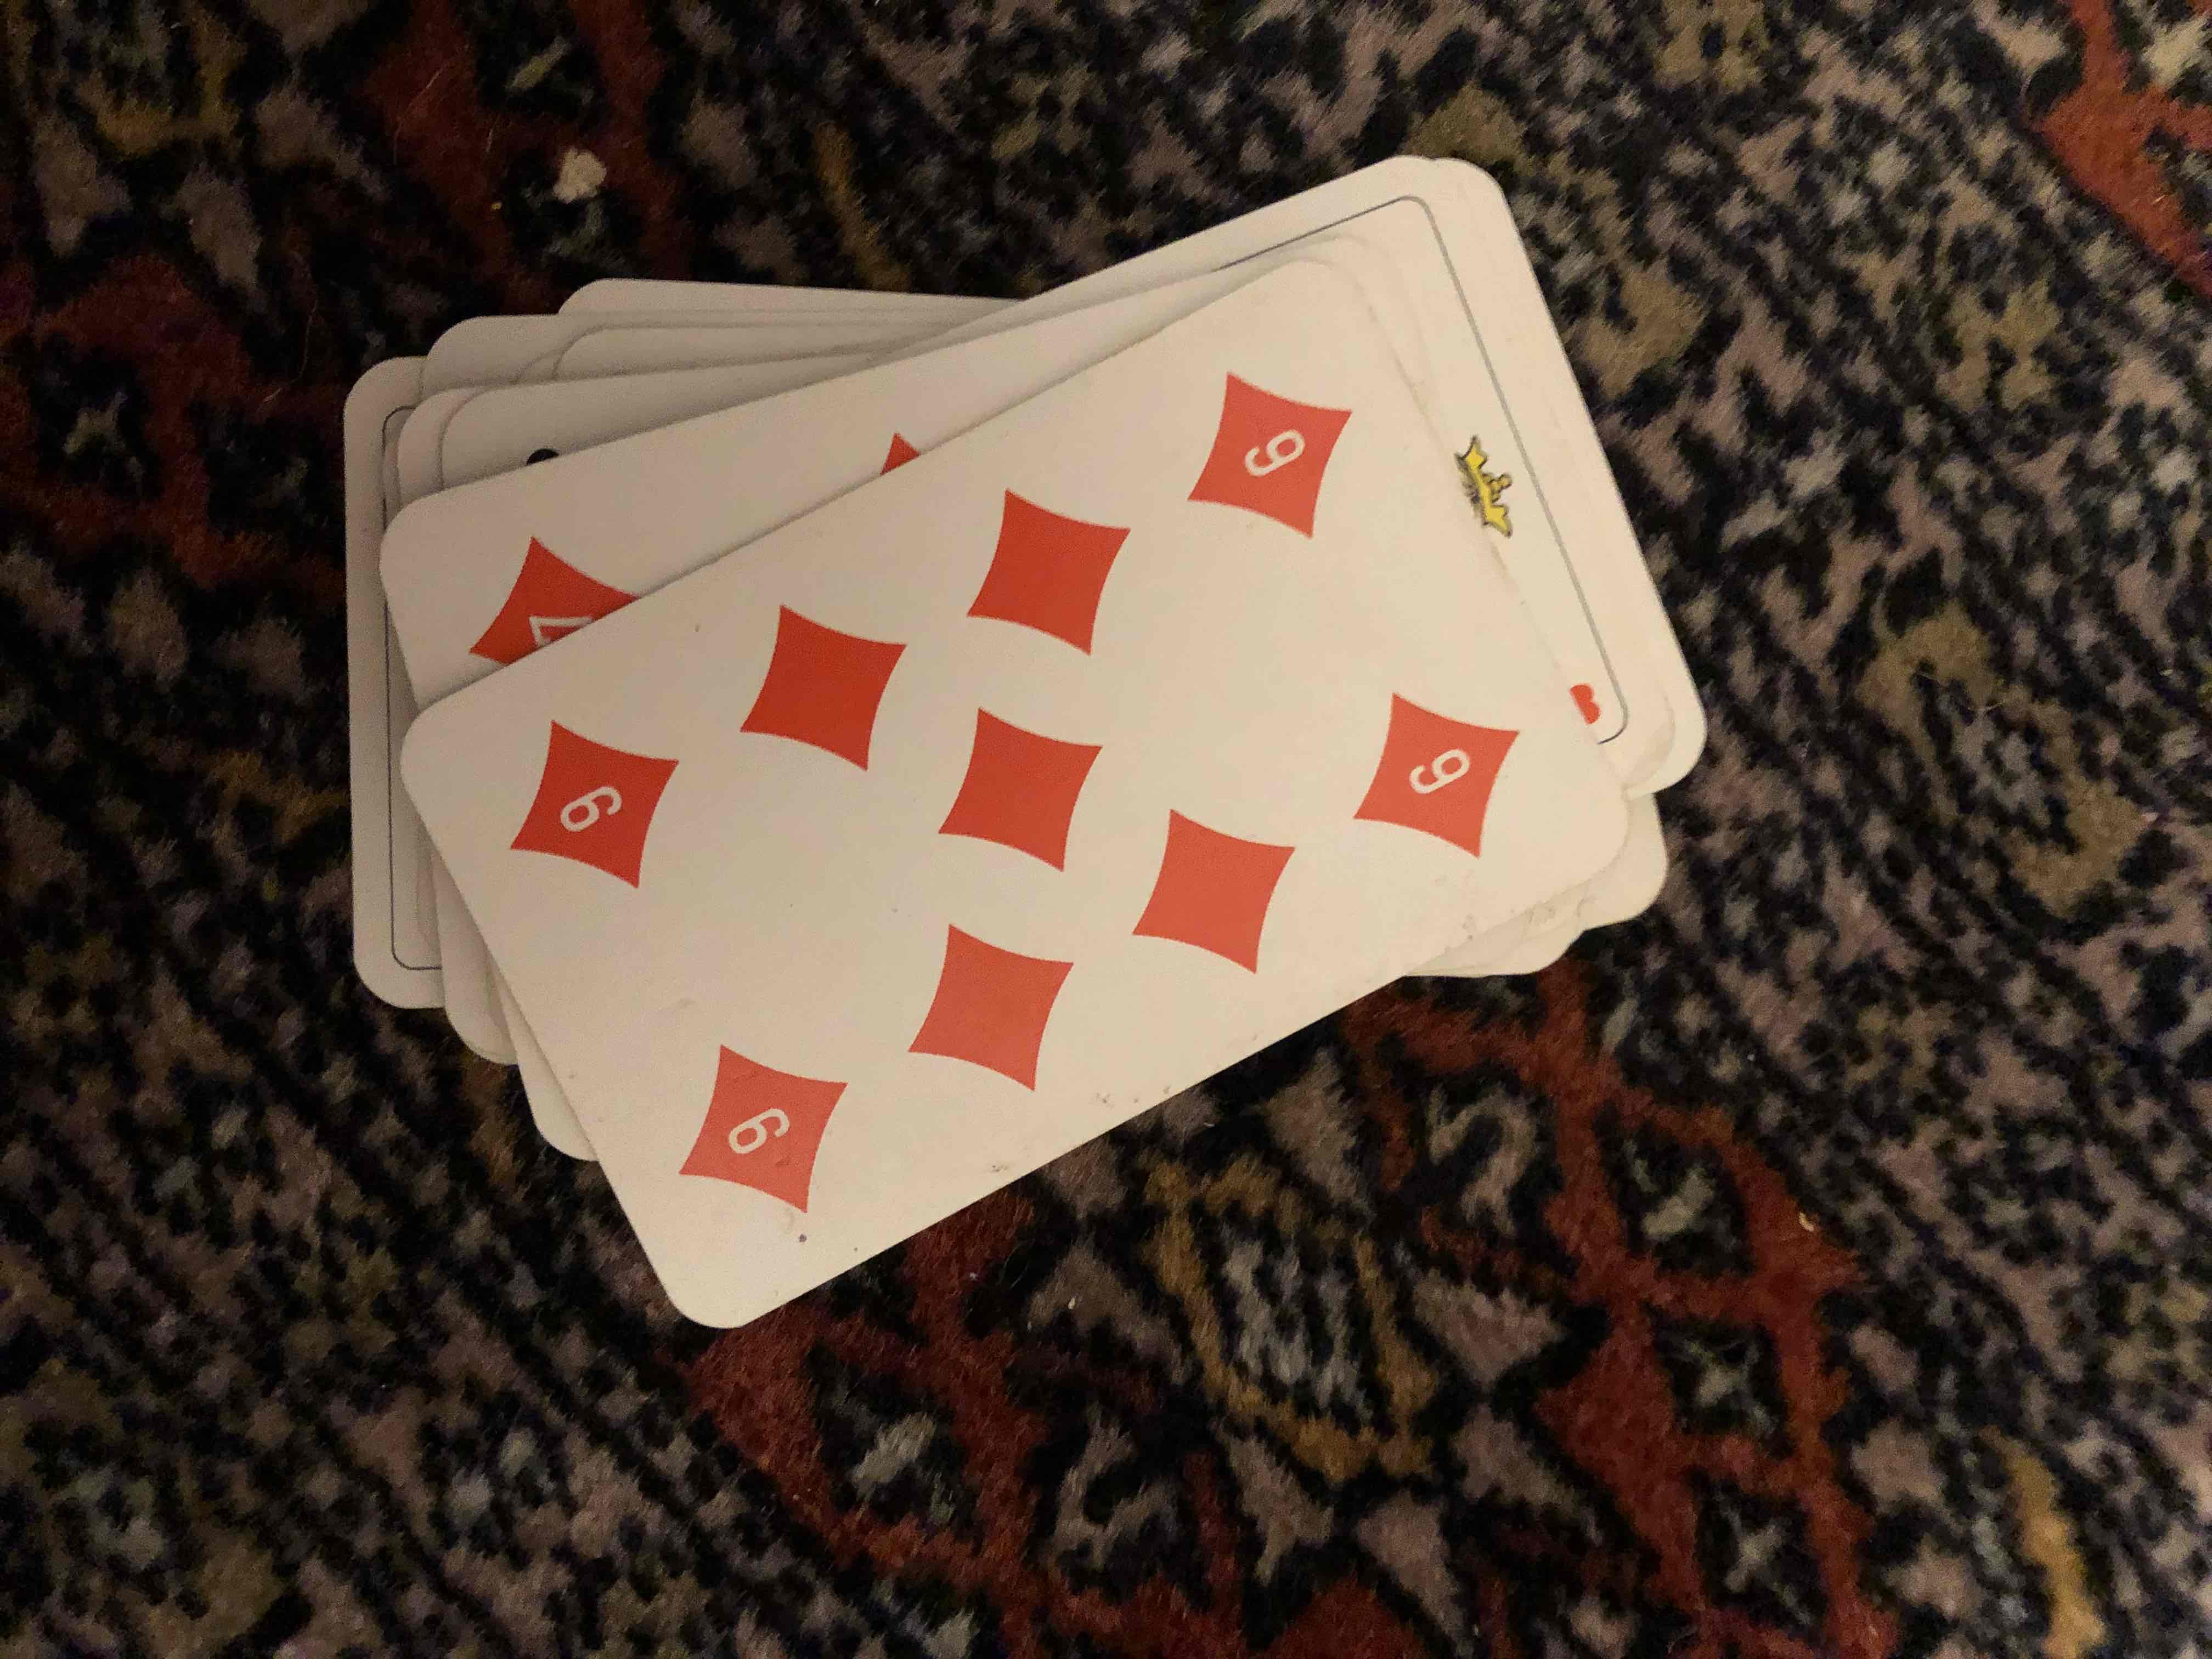diamond9: (451, 347, 1620, 1248)
